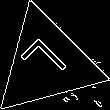L_SE: (18, 35, 75, 92)
